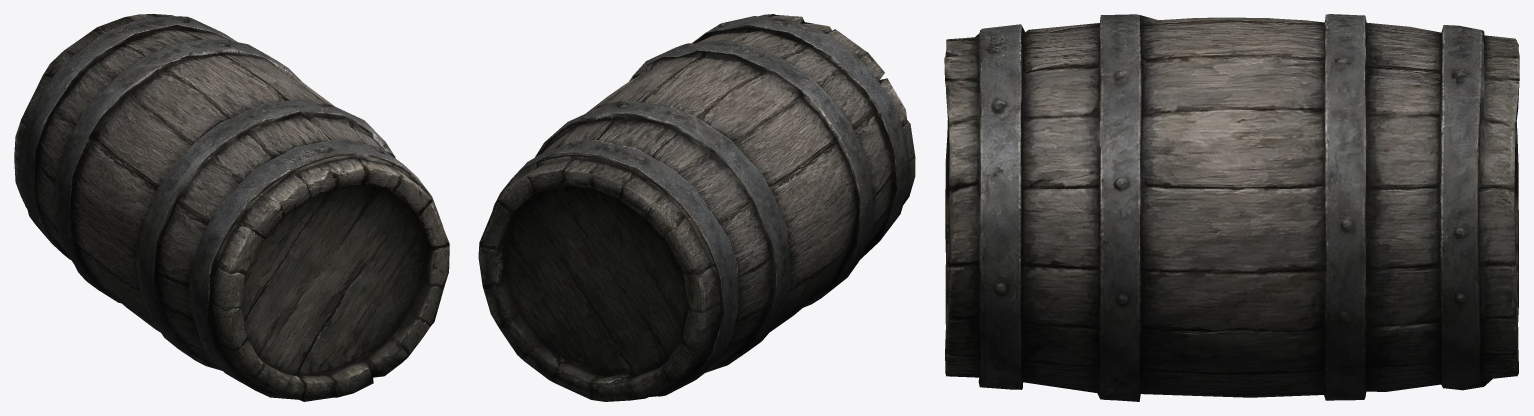
File: barrel_side_hd.glb
3 renders of one model, left to right at view 1: azimuth 30°, elevation 25°; view 2: azimuth 150°, elevation 25°; view 3: azimuth 270°, elevation 25°, orthographic. The views are drawn at different scales.
Visible parts, largest first — view 1: tripo_node_8b0e38ed-c951-486a-b580-0f406478542c; view 2: tripo_node_8b0e38ed-c951-486a-b580-0f406478542c; view 3: tripo_node_8b0e38ed-c951-486a-b580-0f406478542c.
Boxes of the visible parts, x1,y1,x2,y2 form: tripo_node_8b0e38ed-c951-486a-b580-0f406478542c: [14, 14, 449, 401]; tripo_node_8b0e38ed-c951-486a-b580-0f406478542c: [478, 14, 915, 401]; tripo_node_8b0e38ed-c951-486a-b580-0f406478542c: [944, 14, 1519, 401].
Size of the model in its own units: 0.7103 by 0.6771 by 1.
1 material, 1 textured.
